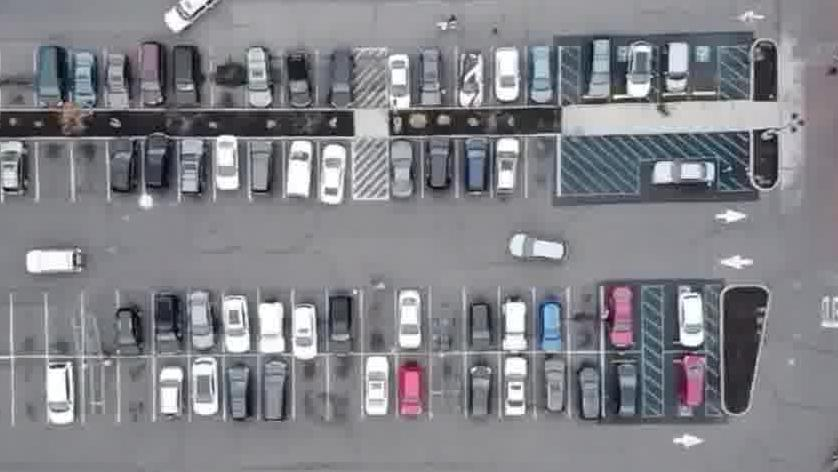car: (358, 357, 396, 424), (45, 364, 80, 434), (26, 242, 85, 282), (30, 44, 66, 109), (161, 0, 221, 38), (168, 50, 203, 115), (315, 140, 350, 205), (645, 157, 716, 189), (135, 46, 166, 115), (106, 140, 142, 199), (501, 358, 534, 422), (258, 362, 290, 428), (185, 362, 219, 424), (509, 232, 569, 267), (489, 137, 522, 200), (140, 140, 173, 203), (224, 367, 256, 430), (325, 291, 356, 356), (324, 50, 355, 114), (281, 145, 314, 205), (286, 307, 320, 365), (150, 295, 181, 358), (156, 365, 187, 428), (246, 141, 278, 202), (606, 283, 636, 348), (396, 283, 425, 348), (245, 49, 273, 116), (465, 362, 496, 422), (395, 362, 426, 422), (255, 301, 287, 359), (620, 41, 653, 97), (221, 298, 251, 359), (387, 142, 416, 204), (0, 142, 31, 200), (424, 139, 454, 198), (462, 137, 491, 198), (497, 299, 528, 356), (487, 48, 516, 108), (414, 48, 443, 108), (574, 363, 602, 425), (660, 39, 691, 95), (175, 143, 204, 202), (679, 354, 708, 413), (584, 41, 613, 99), (67, 52, 96, 110), (113, 306, 143, 362), (612, 360, 639, 422), (676, 290, 704, 349), (525, 46, 552, 107), (285, 55, 311, 118), (383, 54, 410, 114), (190, 293, 215, 357), (452, 52, 480, 109), (539, 357, 566, 416), (215, 135, 241, 196), (537, 300, 566, 353), (104, 53, 129, 114), (467, 303, 491, 356)
